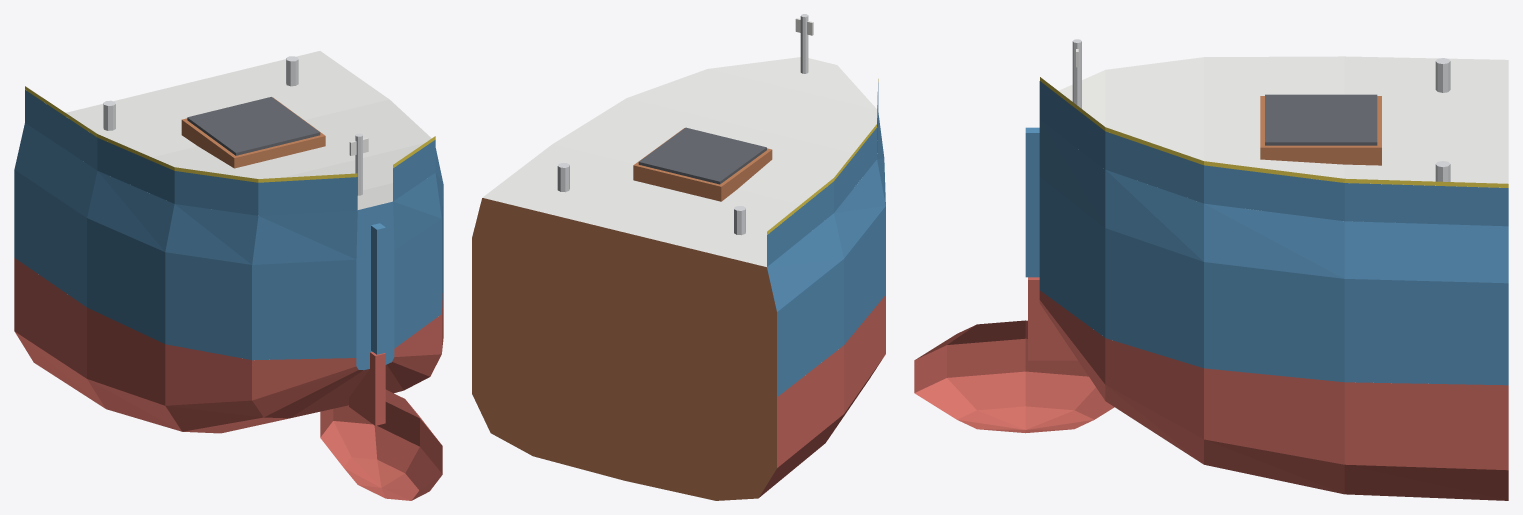
Rendered from shipyard-and-dry-dock-shipyard-and-dry-dock-hull-secti-2b298b4c__37923.glb.
The picture shows the model from 3 angles, left to right: view 1: azimuth 30°, elevation 25°; view 2: azimuth 150°, elevation 25°; view 3: azimuth 270°, elevation 25°; orthographic projection. The views are drawn at different scales.
Visible parts, largest first — view 1: shipyard-and-dry-dock-hull-section-bow; view 2: shipyard-and-dry-dock-hull-section-bow; view 3: shipyard-and-dry-dock-hull-section-bow.
Part boxes in pixels (x1,y1,x2,y2): shipyard-and-dry-dock-hull-section-bow: (14,51,443,500); shipyard-and-dry-dock-hull-section-bow: (472,14,885,500); shipyard-and-dry-dock-hull-section-bow: (914,39,1508,500).
Bounding box in the file's own units: 9 × 9.4 × 12.68.
